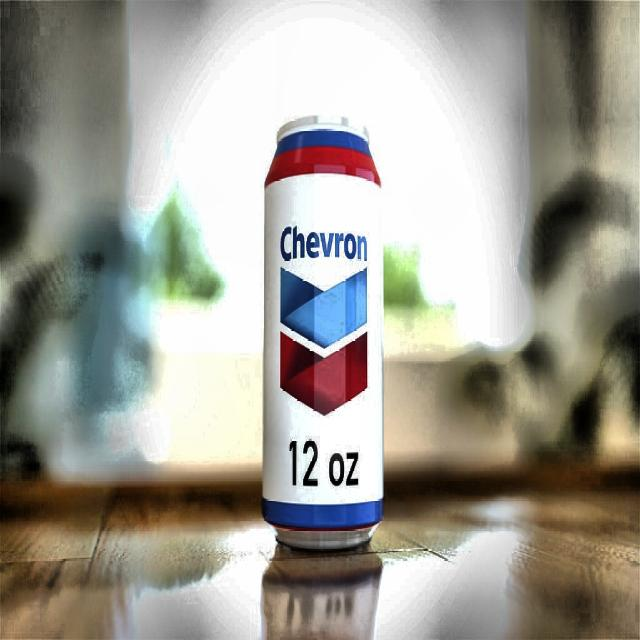Cans: (246, 105, 404, 562)
